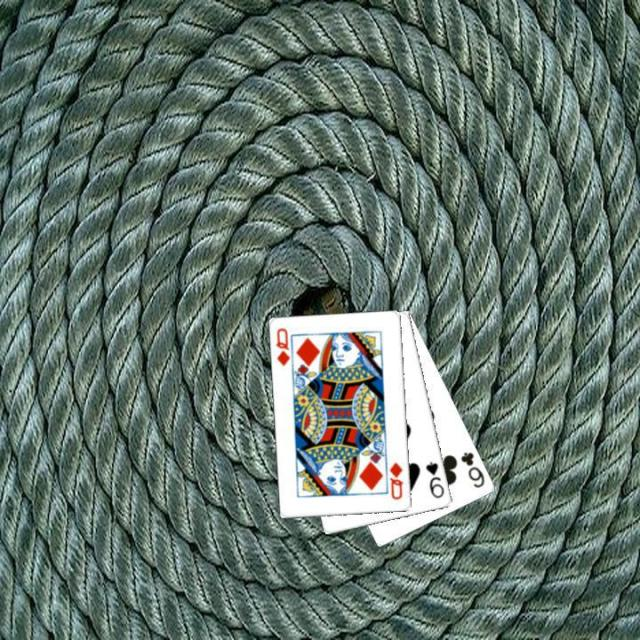6C: (457, 448, 487, 490)
9S: (422, 458, 446, 500)
QD: (272, 324, 292, 368), (386, 459, 405, 501)
